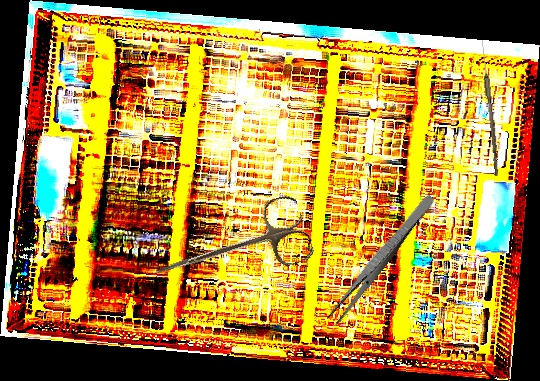Dressing Forceps: (325, 191, 437, 327)
Iris Scissors: (146, 192, 316, 308)
Surgical Spoon: (478, 40, 502, 176)
